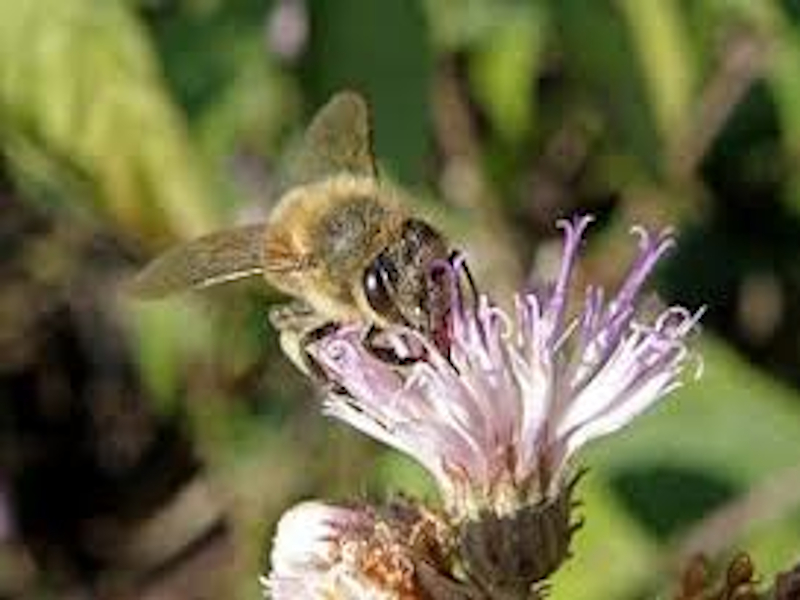abeja: (107, 105, 503, 361)
